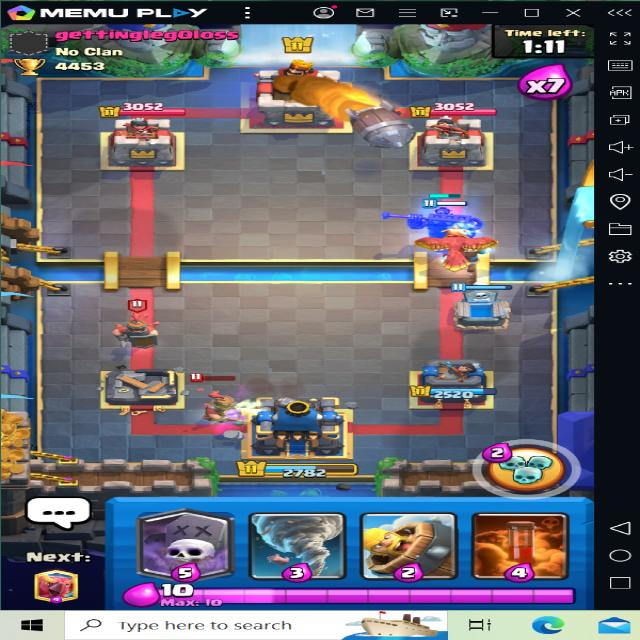Rocket: (334, 92, 418, 154)
Royalrecruits: (106, 296, 168, 352), (185, 368, 245, 422)
